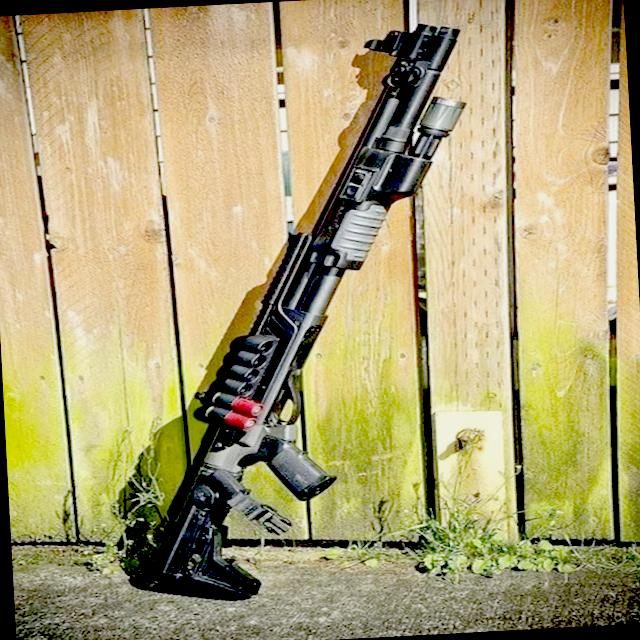shotgun: (15, 3, 549, 640)
